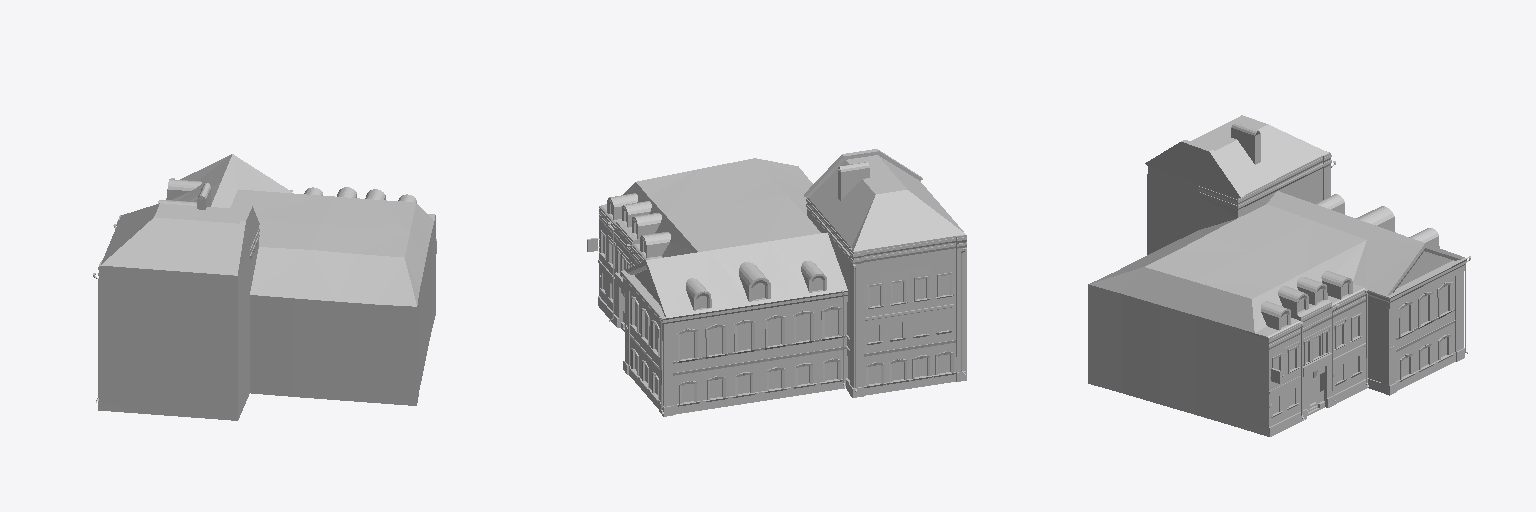
Rendered from BANCA-CU-TEXT.obj.
The picture shows the model from 3 angles: view 1: azimuth 30°, elevation 25°; view 2: azimuth 150°, elevation 25°; view 3: azimuth 270°, elevation 25°; orthographic projection.
Parts seen in each view (by area): view 1: domik; view 2: domik; view 3: domik.
Part boxes in pixels (bbox=[...]): domik: bbox=[93, 154, 436, 420]; domik: bbox=[587, 149, 966, 416]; domik: bbox=[1088, 115, 1470, 436].
Size of the model in its own units: 330 by 167 by 303.